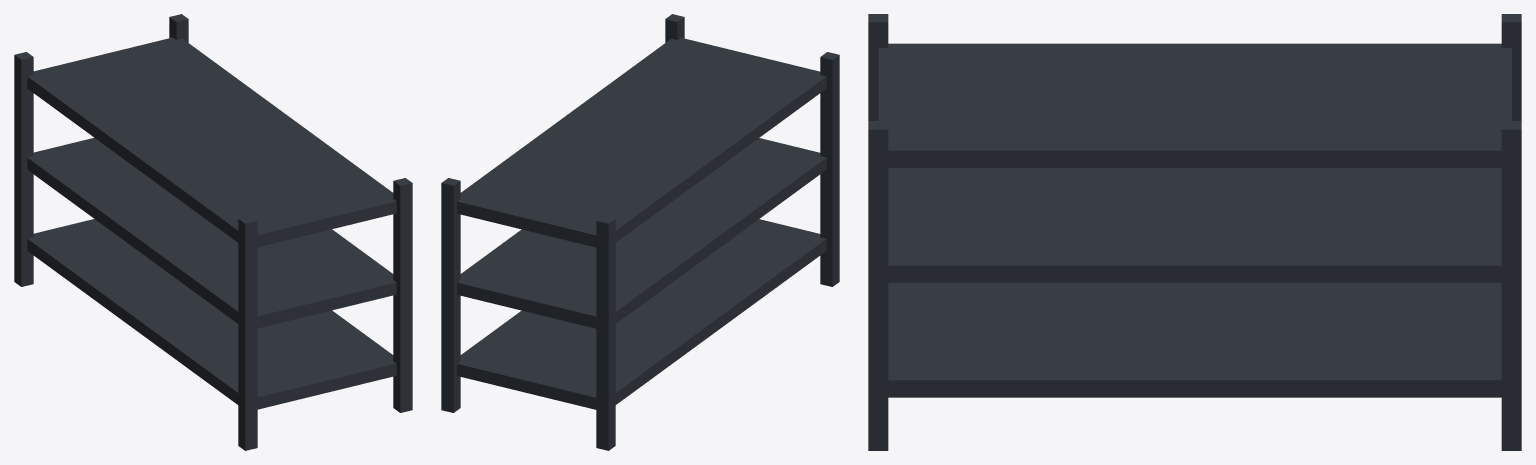
Rendered from SM_Cupboard_01.glb.
The picture shows the model from 3 angles, left to right: view 1: azimuth 30°, elevation 25°; view 2: azimuth 150°, elevation 25°; view 3: azimuth 270°, elevation 25°; orthographic projection. The views are drawn at different scales.
Visible parts, largest first — view 1: SM_Cupboard_01; view 2: SM_Cupboard_01; view 3: SM_Cupboard_01.
Part boxes in pixels (left/top/right/bottom): SM_Cupboard_01: left=14, top=14, right=412, bottom=450; SM_Cupboard_01: left=441, top=14, right=839, bottom=450; SM_Cupboard_01: left=868, top=14, right=1521, bottom=450.
Size of the model in its own units: 0.5727 by 0.743 by 1.37.
Materials: 1 (1 with a texture image).
